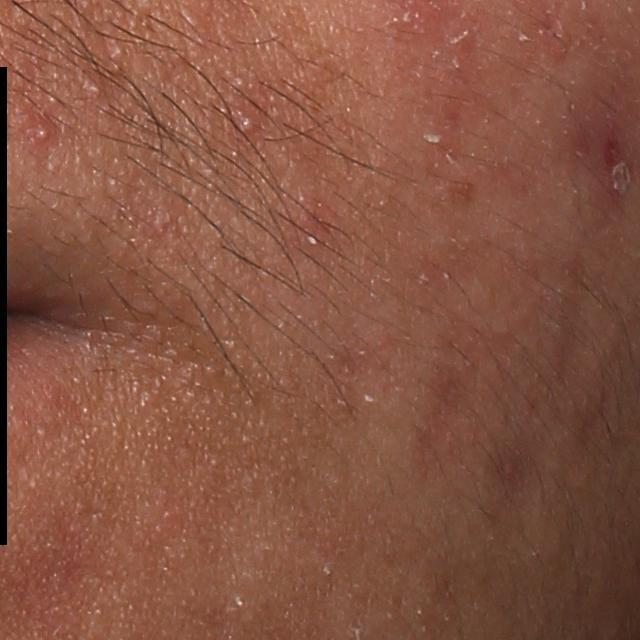comedo: (236, 113, 260, 139), (86, 81, 104, 99), (112, 44, 126, 60)
papule: (24, 119, 56, 153)
